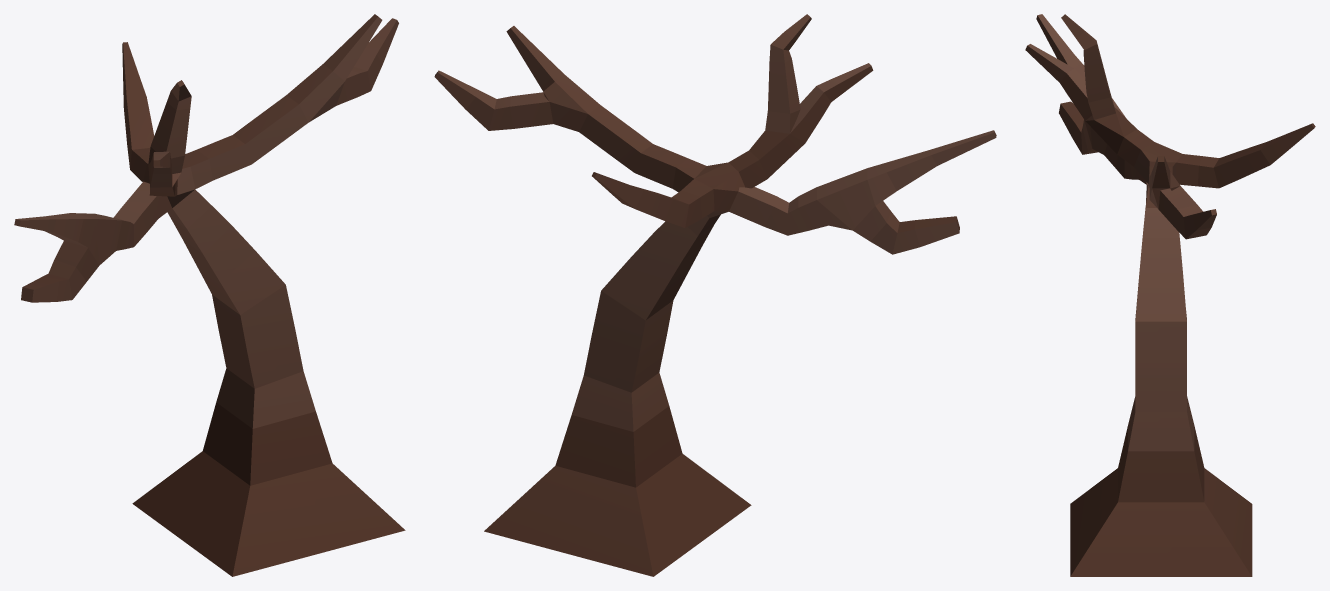
File: arvores seca 1.fbx
3 views of the same model, side by side, from view 1: azimuth 30°, elevation 25°; view 2: azimuth 150°, elevation 25°; view 3: azimuth 270°, elevation 25° (orthographic). The views are drawn at different scales.
Parts seen in each view (by area): view 1: Cube; view 2: Cube; view 3: Cube.
Part boxes in pixels (x1,y1,x2,y2): Cube: (14, 14, 405, 576); Cube: (434, 14, 996, 576); Cube: (1025, 14, 1315, 576).
Size of the model in its own units: 487 by 498 by 281.
1 material, 1 textured.
